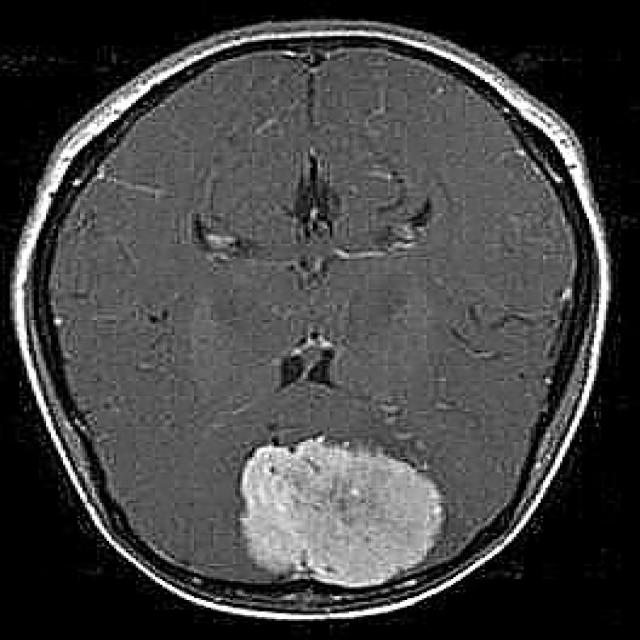Tumor-Cell: (224, 437, 432, 577)
